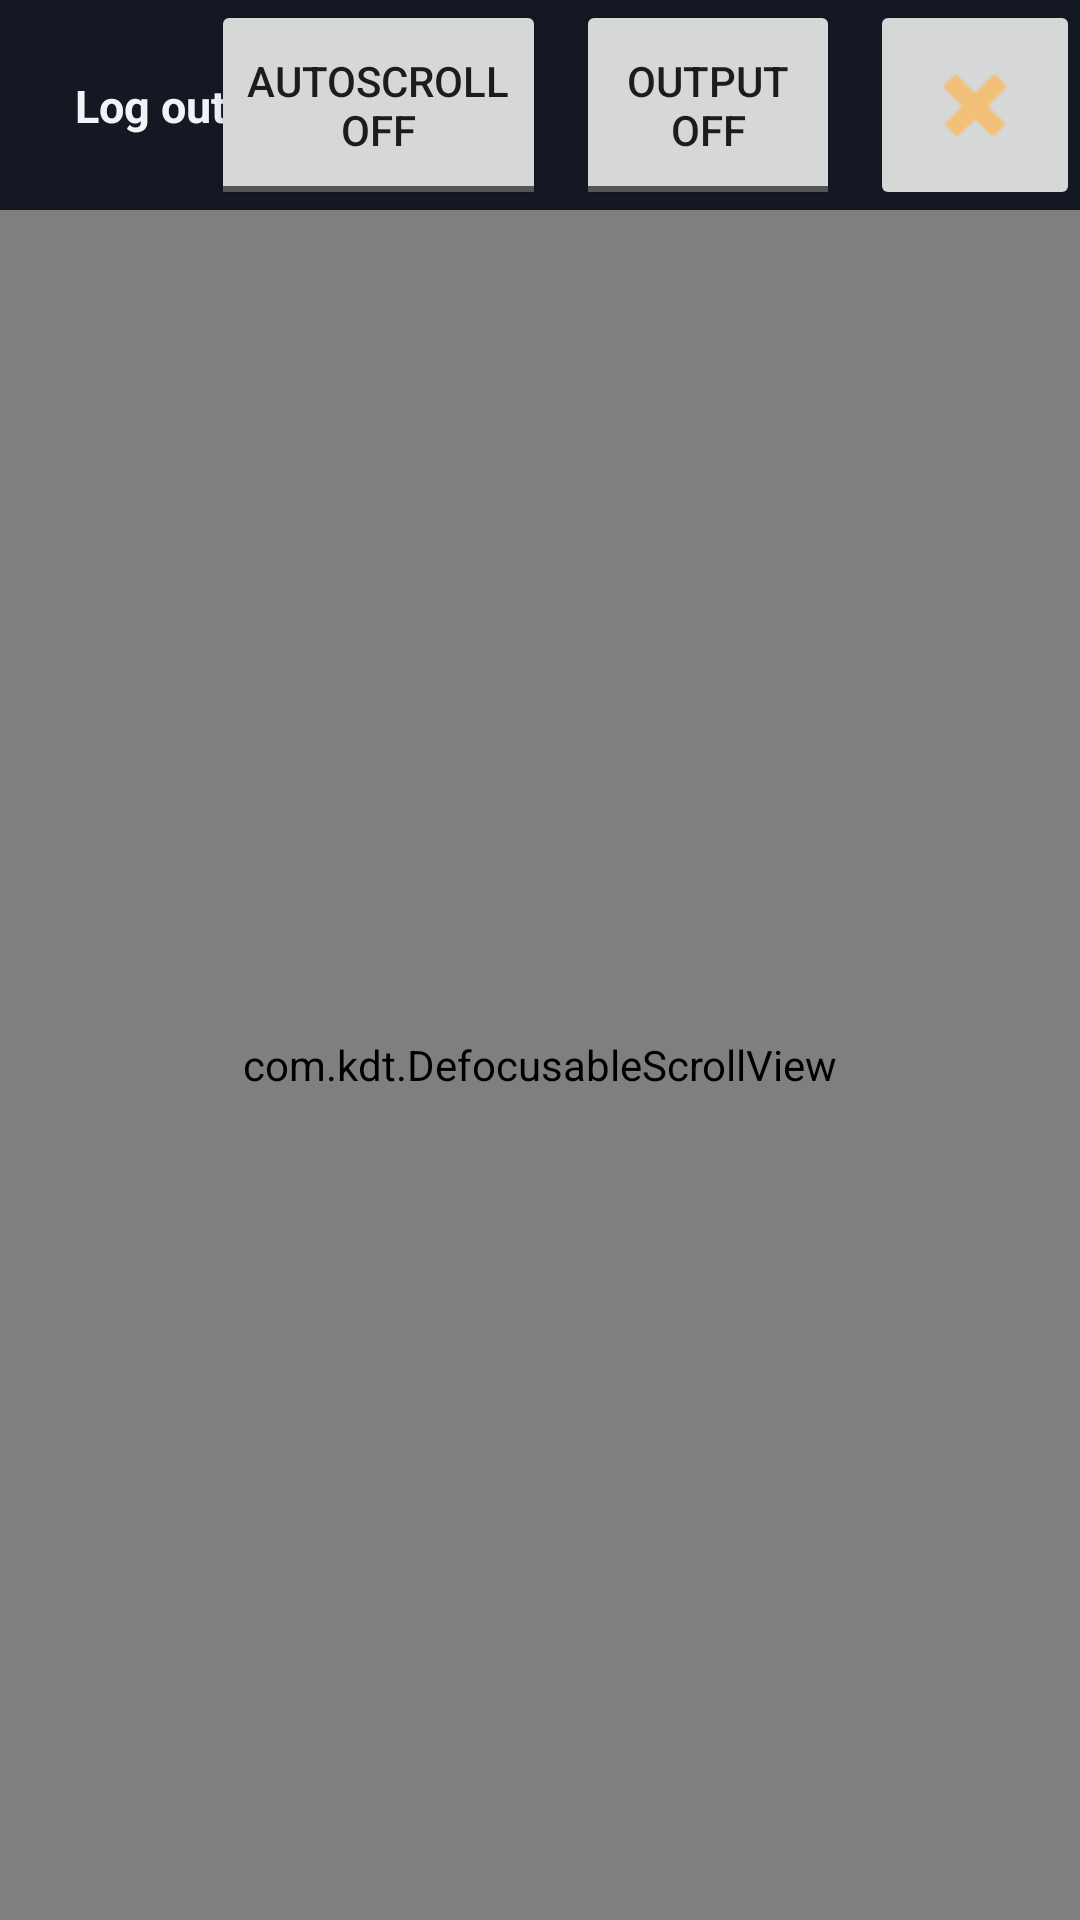

Icon click points for this 1080*1920 phone screenshot, format [x,y]:
delete: [975,105]
